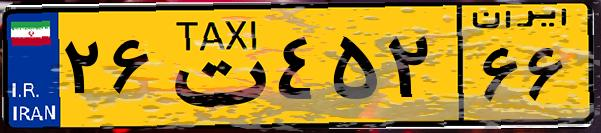2: (385, 28, 445, 110), (57, 26, 110, 100)
4: (270, 28, 330, 110)
5: (330, 28, 385, 110)
6: (475, 38, 525, 113), (525, 38, 570, 115), (110, 28, 158, 98)
ت: (158, 12, 270, 120)
